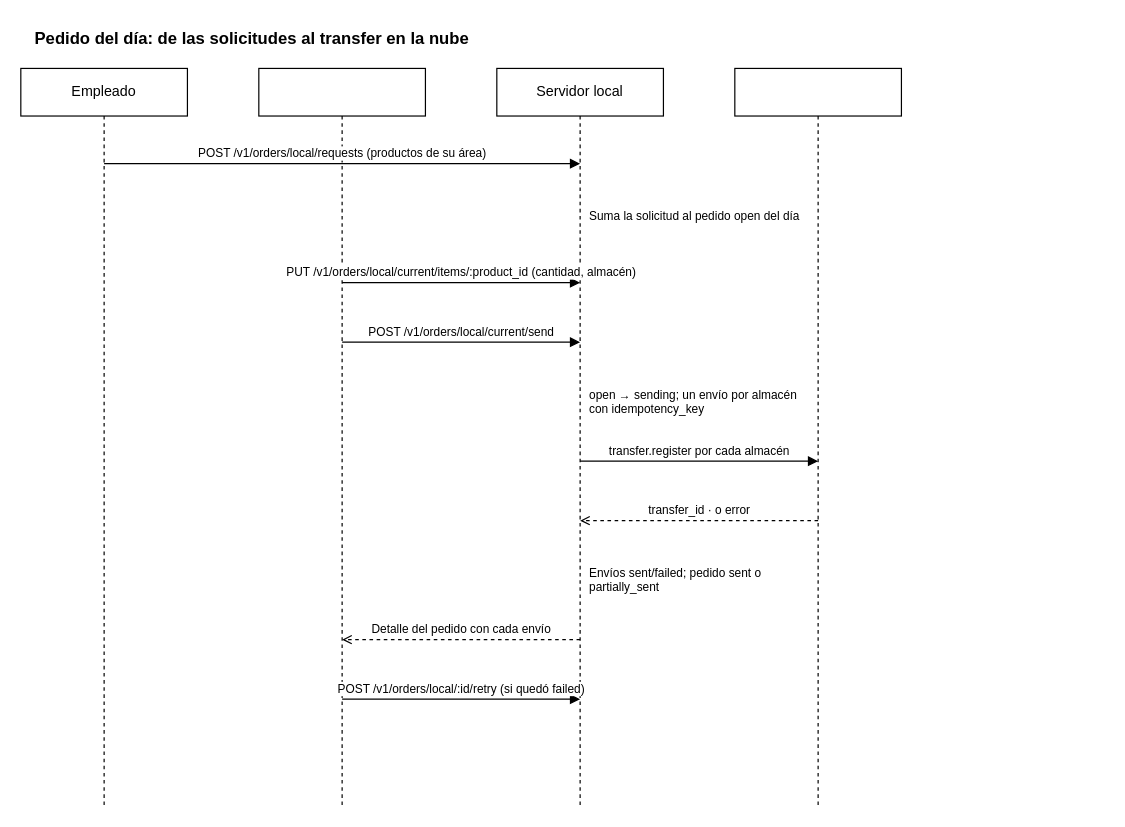
Some shapes in this 1125 by 827 pixel diagram are drawn without their labels. The box of each missing label's shape, as (x1, y1, x2, y2) in pixels:
Gerente: (258, 67, 425, 806)
Nube (gRPC): (734, 67, 901, 806)
